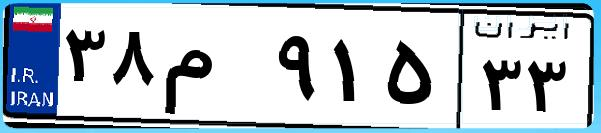1: (330, 28, 385, 110)
3: (57, 26, 110, 100), (475, 38, 525, 113), (525, 38, 570, 115)
5: (385, 28, 445, 110)
8: (110, 28, 158, 98)
9: (270, 28, 330, 110)
م: (158, 20, 270, 120)
